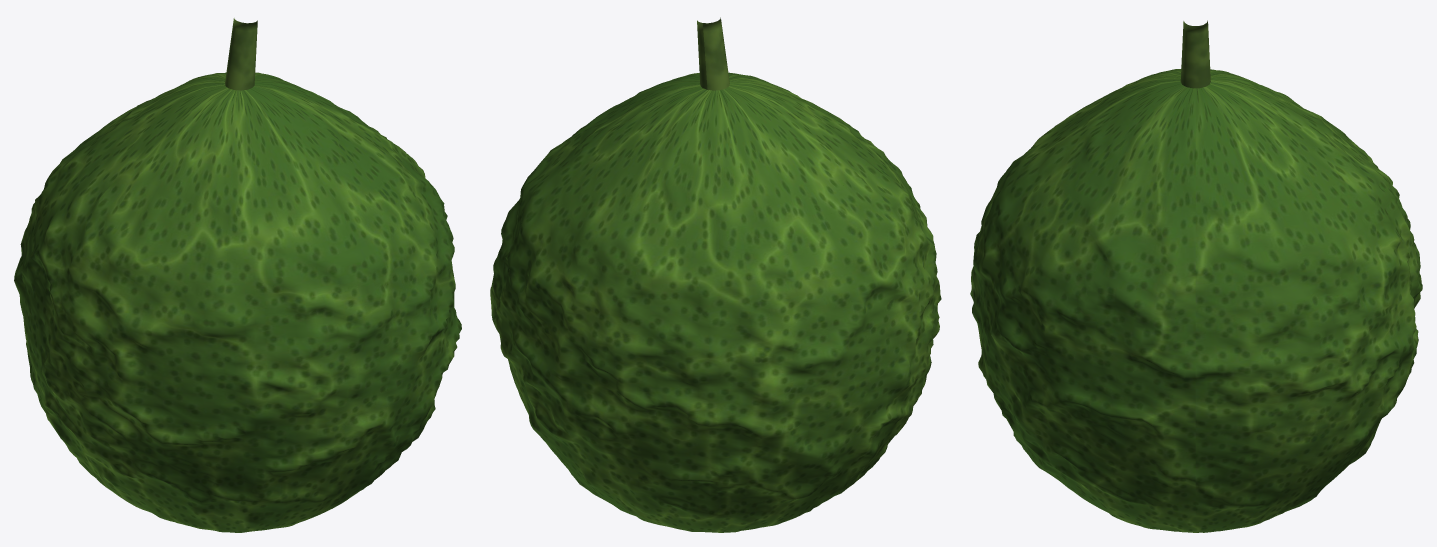
File: combava.glb
3 views of the same model, side by side, from view 1: azimuth 30°, elevation 25°; view 2: azimuth 150°, elevation 25°; view 3: azimuth 270°, elevation 25° (orthographic).
Parts seen in each view (by area): view 1: entier_peau, moitie_A_peau, moitie_B_peau, entier_extra0; view 2: entier_peau, moitie_B_peau, moitie_A_peau, entier_extra0; view 3: entier_peau, moitie_A_peau, moitie_B_peau, entier_extra0.
Boxes of the visible parts, <box> form: entier_peau: <box>14,72,461,532</box>; moitie_A_peau: <box>45,80,461,532</box>; moitie_B_peau: <box>14,72,382,488</box>; entier_extra0: <box>225,18,257,90</box>; entier_peau: <box>491,72,940,532</box>; moitie_B_peau: <box>490,80,909,532</box>; moitie_A_peau: <box>569,72,941,487</box>; entier_extra0: <box>697,17,729,90</box>; entier_peau: <box>970,69,1421,532</box>; moitie_A_peau: <box>971,69,1195,532</box>; moitie_B_peau: <box>1195,69,1422,532</box>; entier_extra0: <box>1180,20,1210,88</box>.
Bounding box in the file's own units: 0.0518 × 0.0631 × 0.0519.
Materials: 3 (3 with a texture image).
